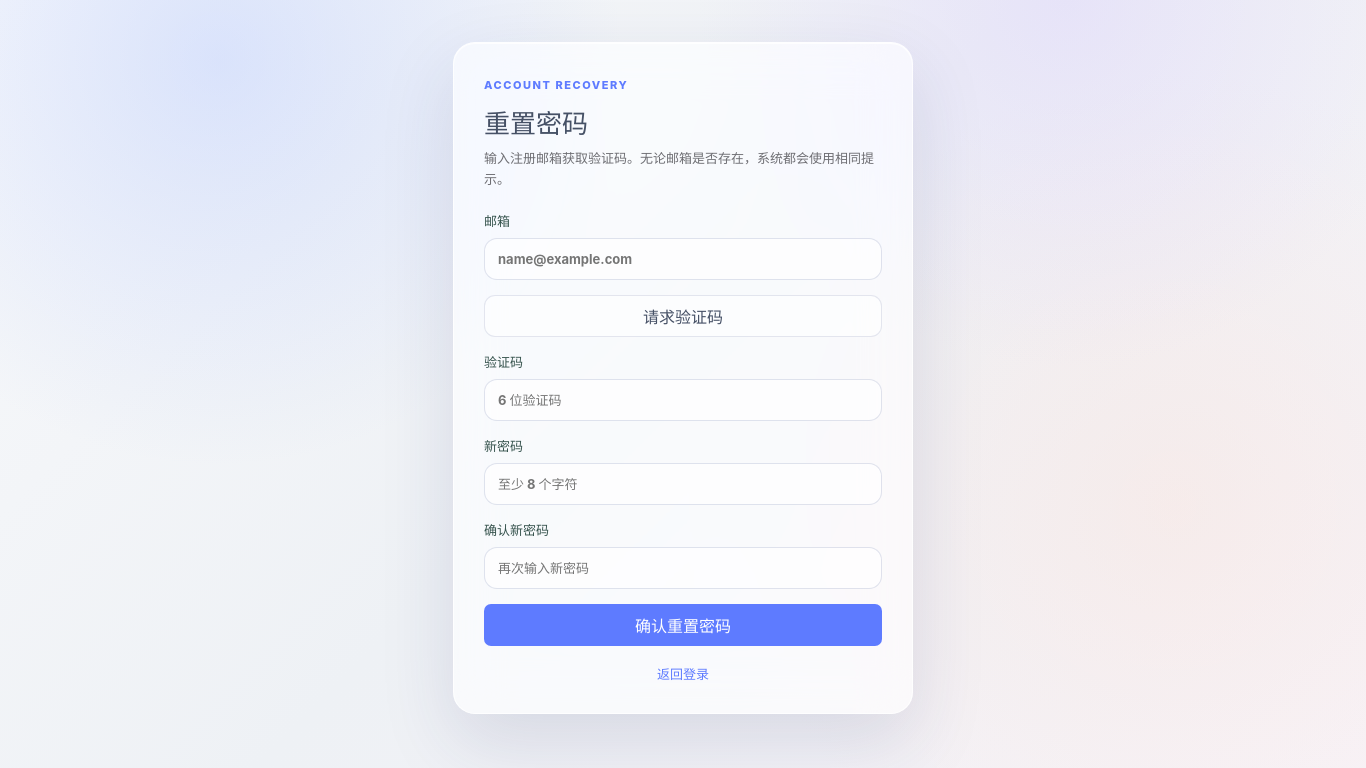
忘记密码页面 › 长错误和请求ID一起显示而不暴露原始异常
Type "reset@example.com" into the field labelled "邮箱" at coordinates (683, 259), box [484,238,882,280]
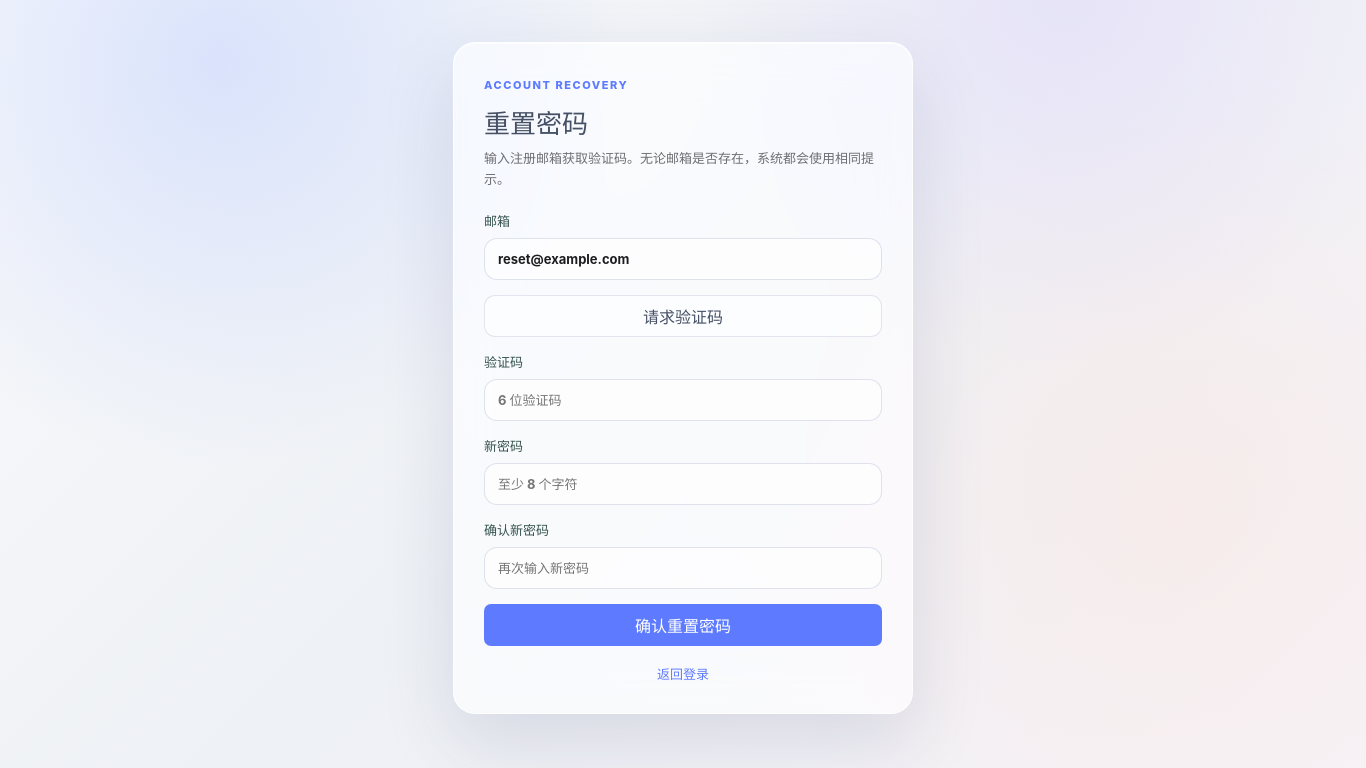
Click the button with class "secondary-button" at coordinates (683, 316), box [484,295,882,337]
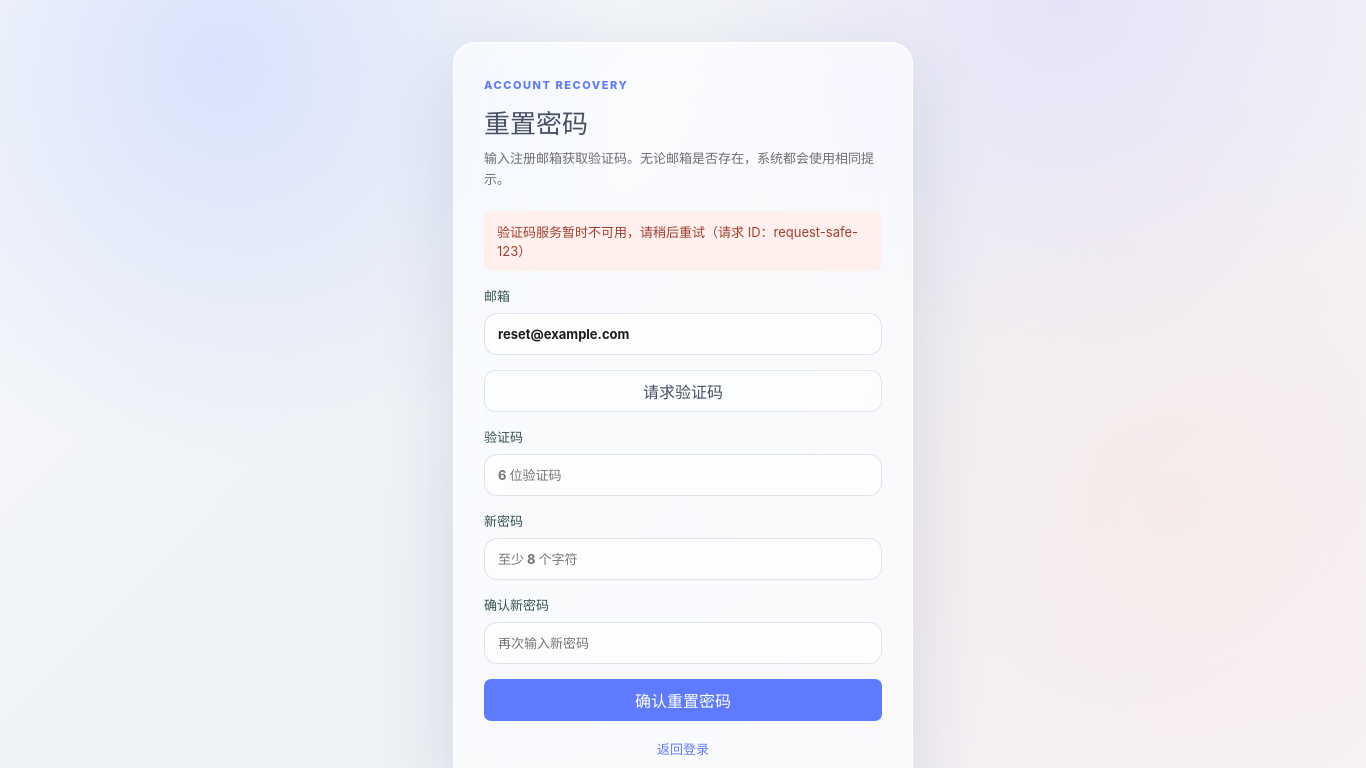
Expected: the message "验证码服务暂时不可用，请稍后重试（请求 ID：request-safe-123）" is shown, [484,211,882,271]
